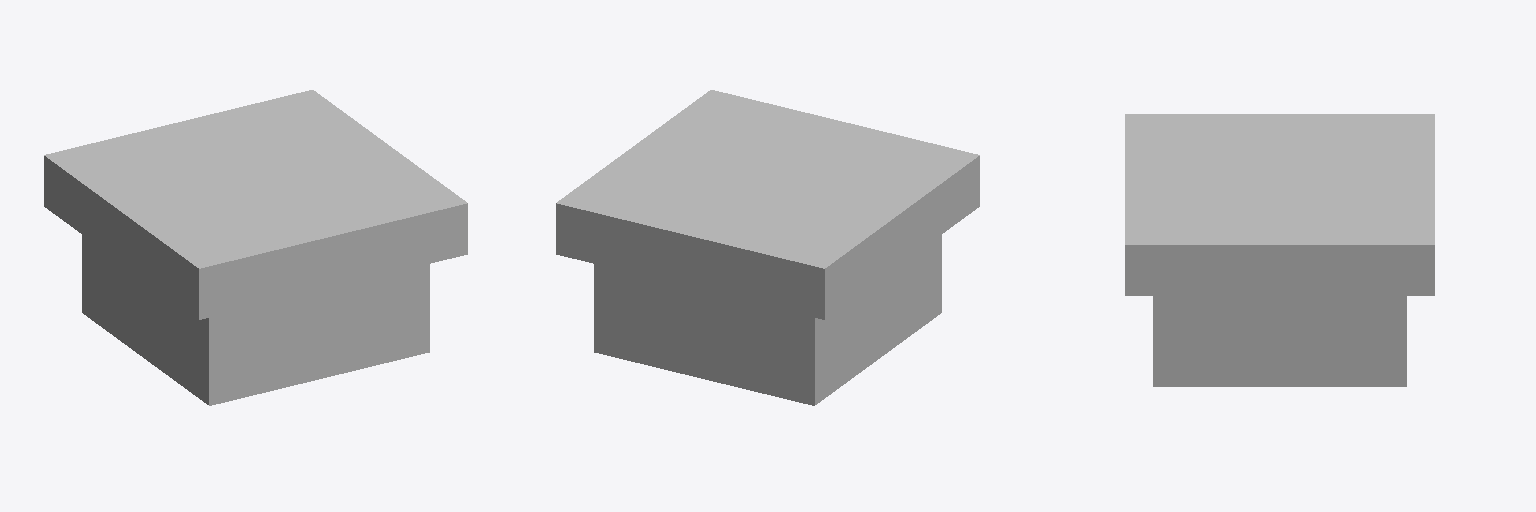
File: hat_male_red.obj
3 views of the same model, side by side, from view 1: azimuth 30°, elevation 25°; view 2: azimuth 150°, elevation 25°; view 3: azimuth 270°, elevation 25° (orthographic).
Parts seen in each view (by area): view 1: object 1; view 2: object 1; view 3: object 1.
Boxes of the visible parts, <box> form: object 1: <box>44,90,467,405</box>; object 1: <box>556,90,979,405</box>; object 1: <box>1125,114,1434,386</box>.
Size of the model in its own units: 0.7333 by 0.4 by 0.7333.